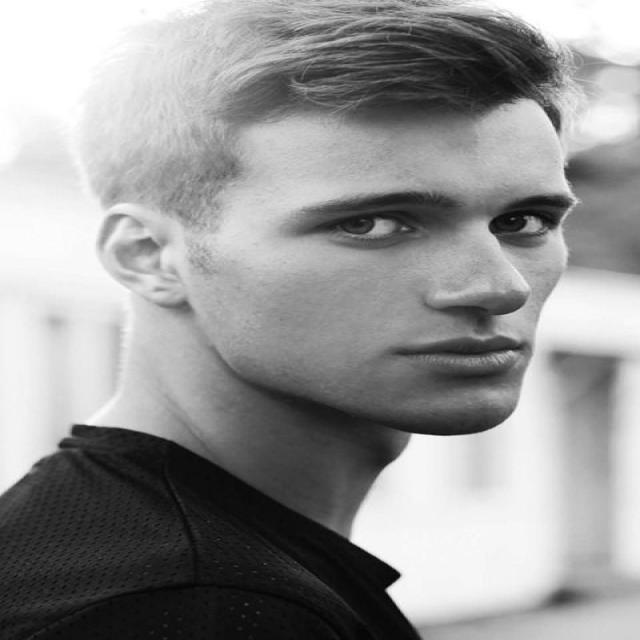front: (269, 169, 584, 411)
